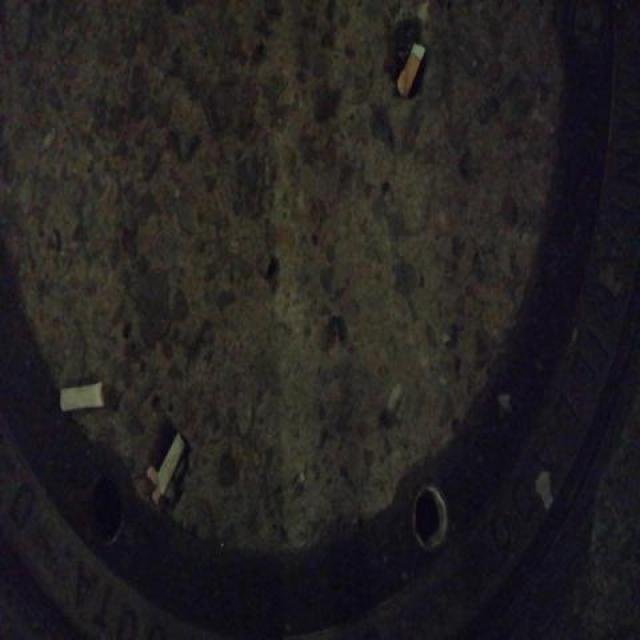non-organic waste: (150, 428, 190, 496), (53, 375, 108, 417), (391, 36, 426, 100)
